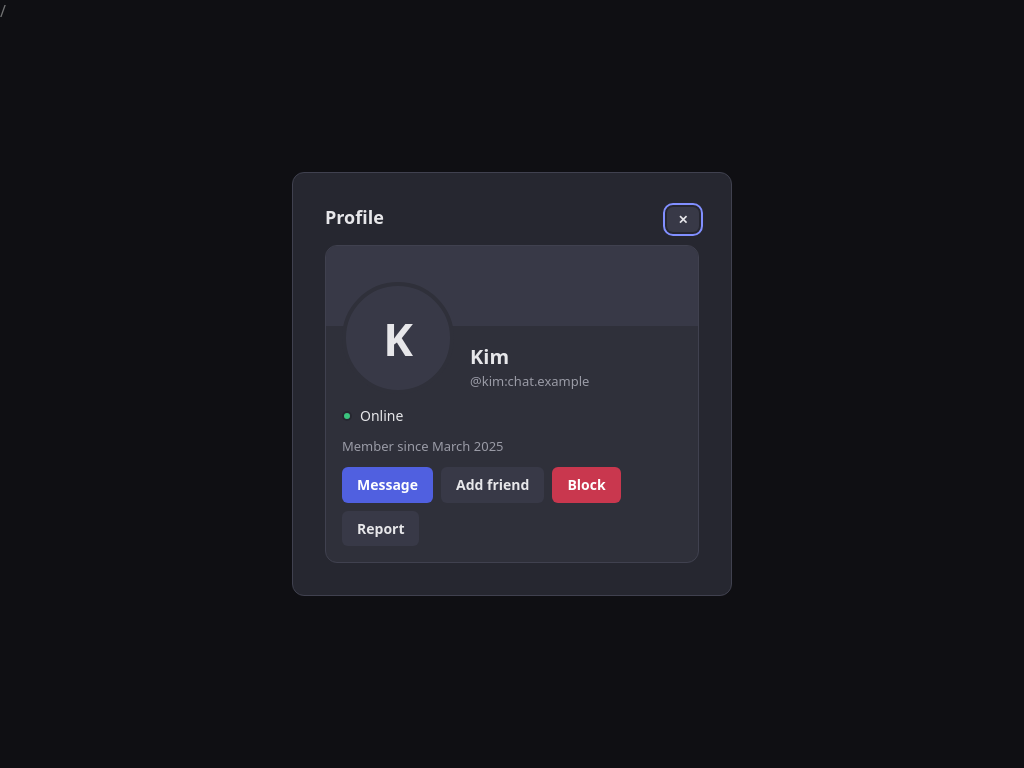
Test: the profile dialog › someone else › says so when a conversation cannot be opened, and stays
Click the button "Message": [388, 485] box [342, 467, 433, 502]
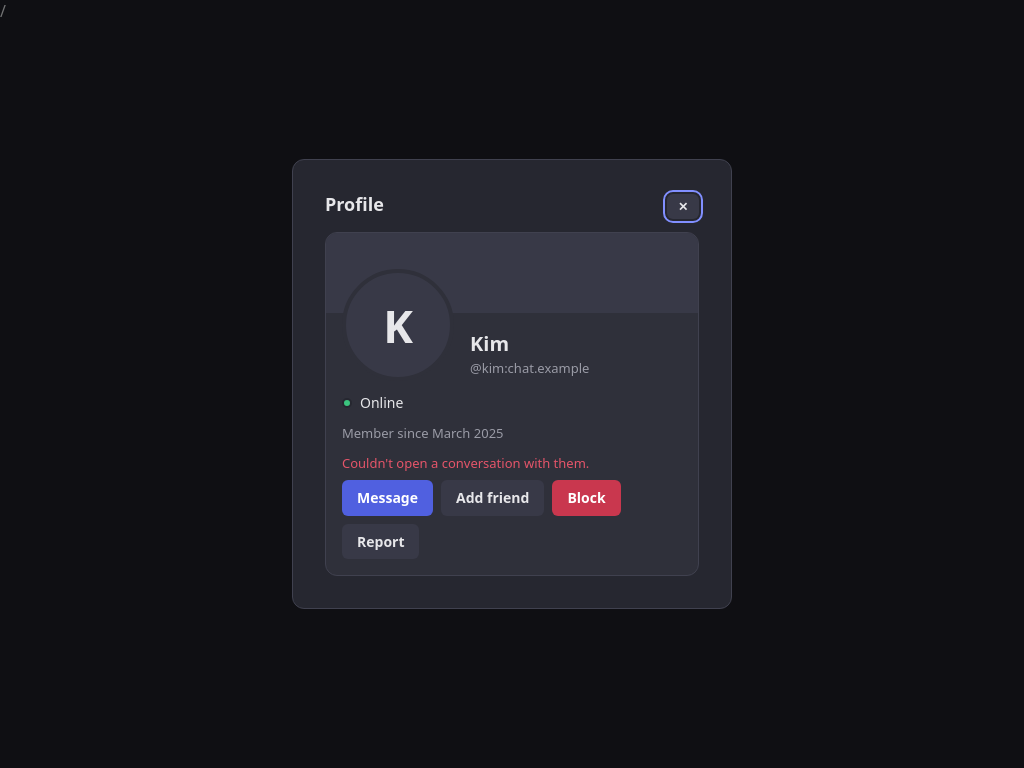
Now the message shows "Couldn't open a conversation", box [342, 454, 589, 472]
